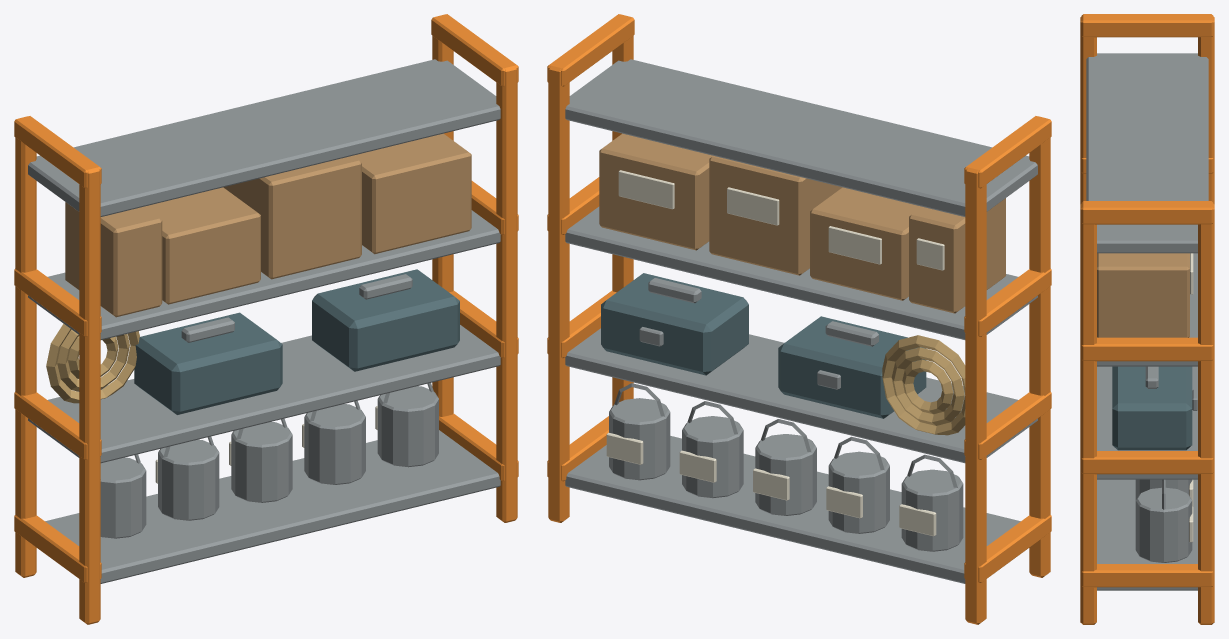
Rendered from hardware_shelf.glb.
3 renders of one model, left to right at view 1: azimuth 30°, elevation 25°; view 2: azimuth 150°, elevation 25°; view 3: azimuth 270°, elevation 25°, orthographic. The views are drawn at different scales.
Parts seen in each view (by area): view 1: hardware_shelf; view 2: hardware_shelf; view 3: hardware_shelf.
Boxes of the visible parts, x1=… form: hardware_shelf: x1=14, y1=14, x2=518, y2=624; hardware_shelf: x1=547, y1=14, x2=1051, y2=624; hardware_shelf: x1=1080, y1=14, x2=1214, y2=624.
Size of the model in its own units: 1.96 by 1.96 by 0.57.
